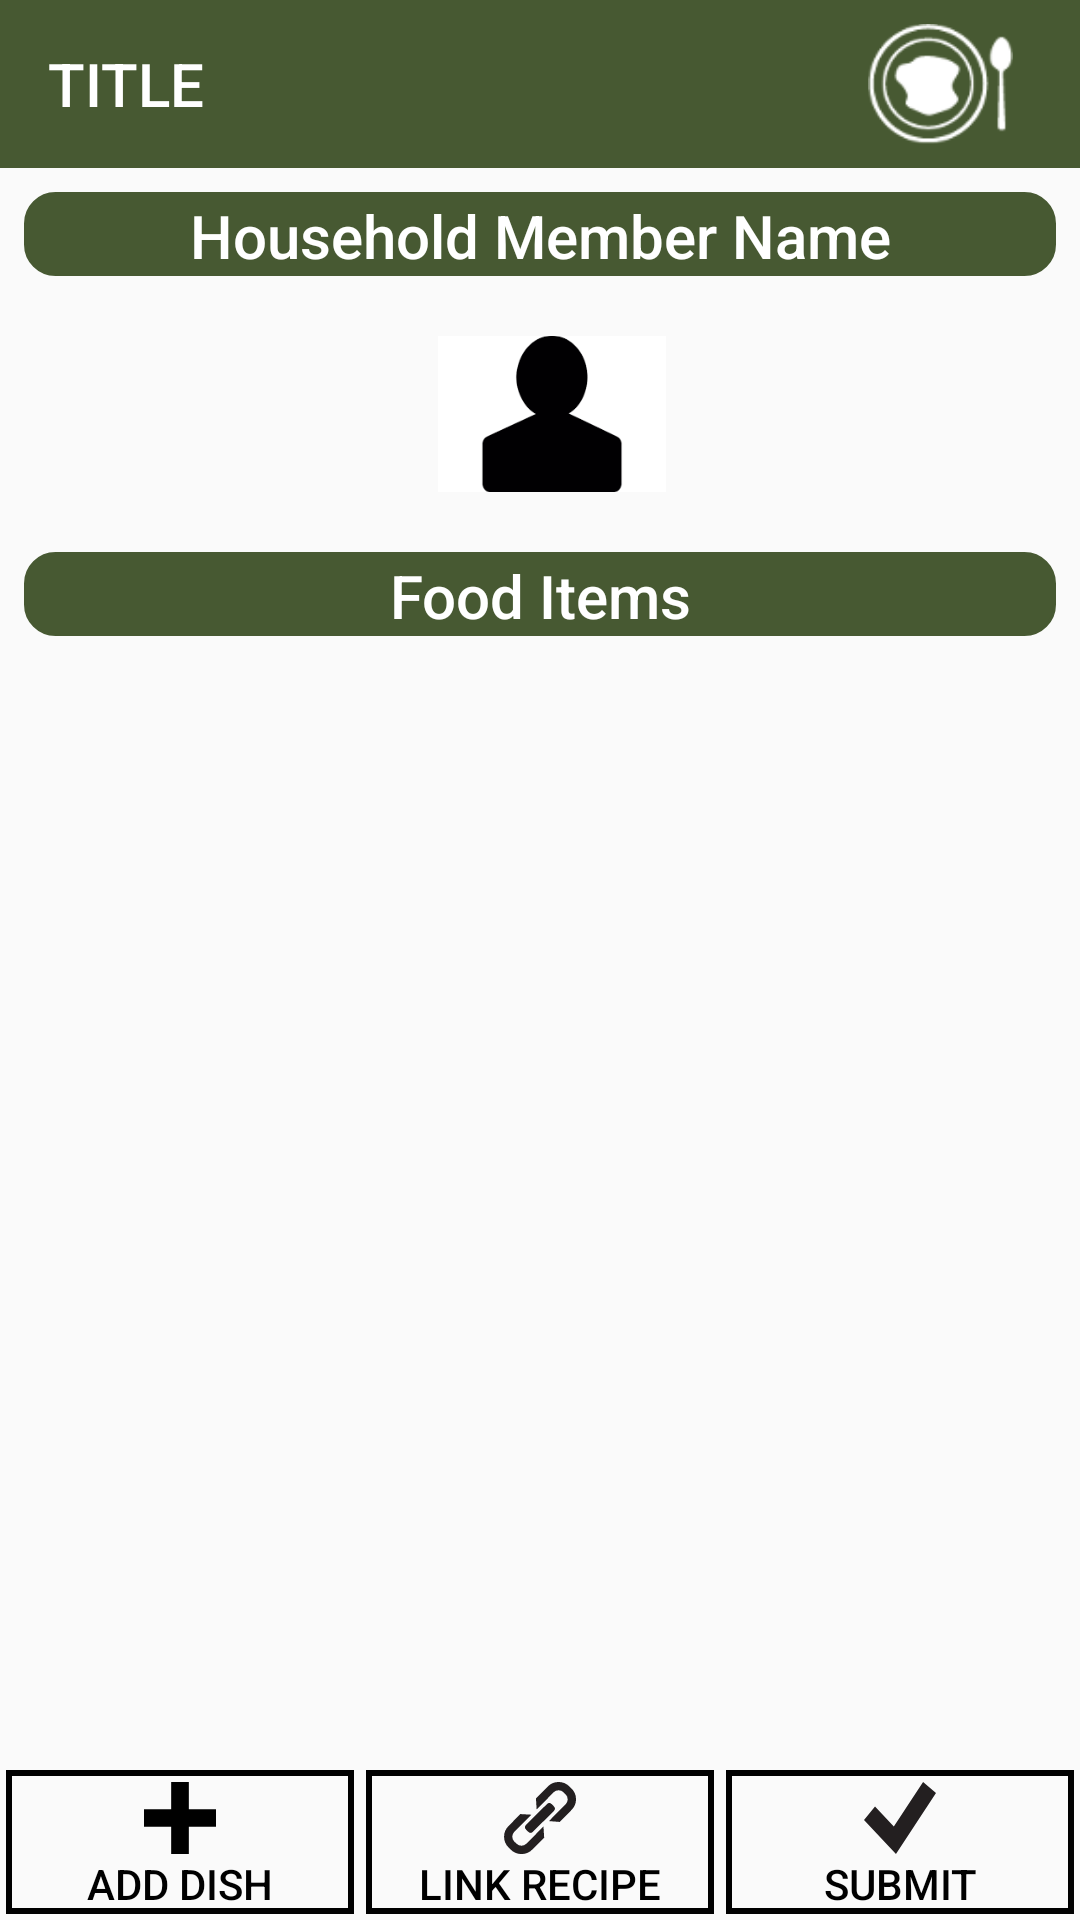

Named icons in this screenshot (1080px x 1920px) and their centers, (x,y):
eat: (940,83)
person: (552,414)
